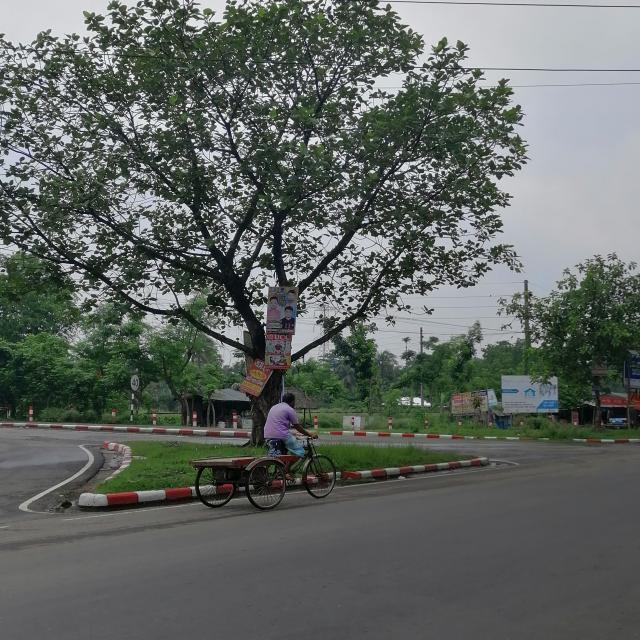Van: (187, 427, 353, 518)
